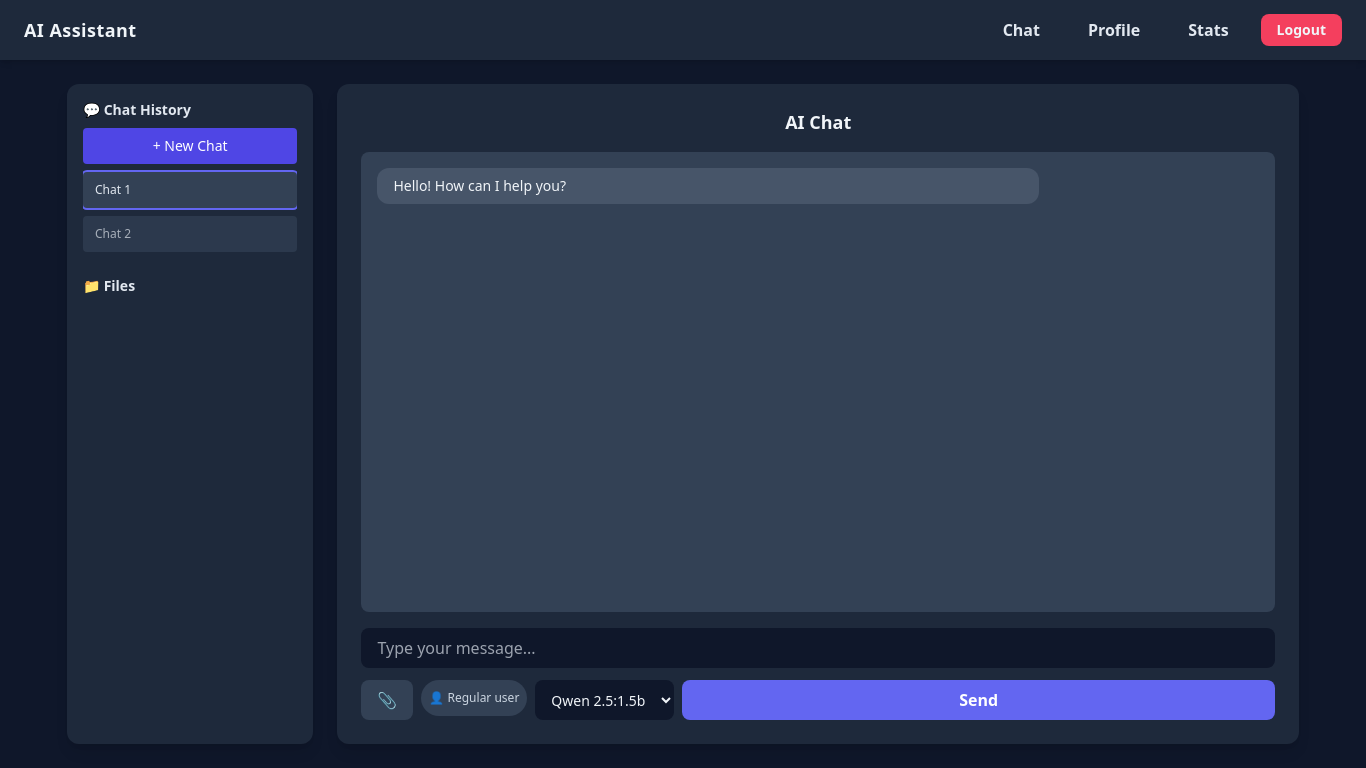
Test case: ChatForma Component › handles new chat creation
The image size is (1366, 768).
Click the list item "+ New Chat".
click(190, 146)  # box [83,128,297,164]
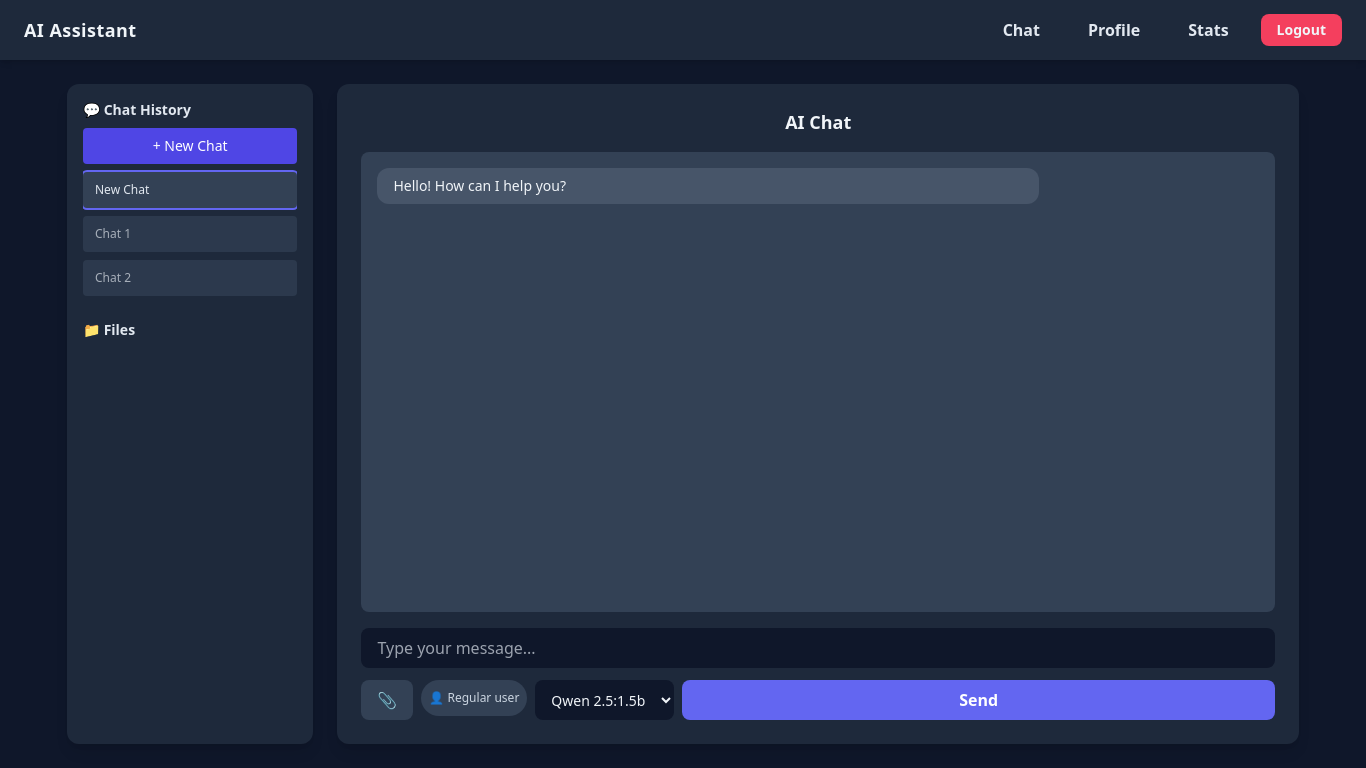
expect the text "New Chat" is shown: met, box [95,181,149,198]
